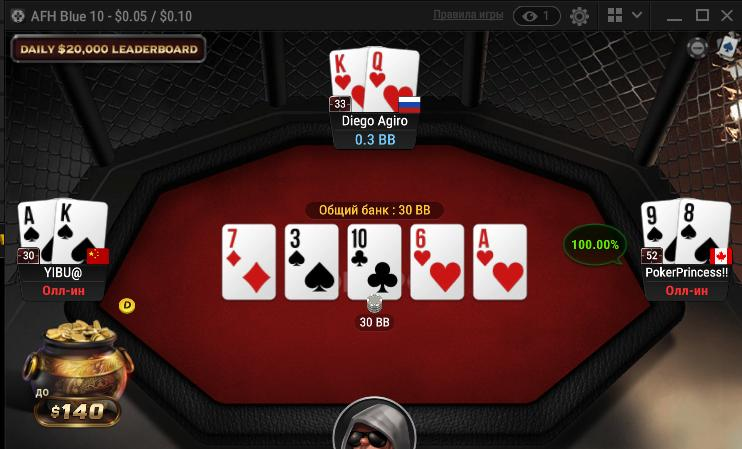10c: (348, 224, 401, 300)
3s: (286, 225, 339, 297)
6h: (411, 225, 465, 299)
7d: (222, 225, 276, 300)
8s: (676, 198, 731, 265)
9s: (643, 201, 678, 266)
Ah: (475, 225, 526, 297)
As: (18, 200, 56, 265)
Kh: (330, 48, 366, 109)
Ks: (55, 198, 109, 263)
Qh: (366, 48, 418, 111)
